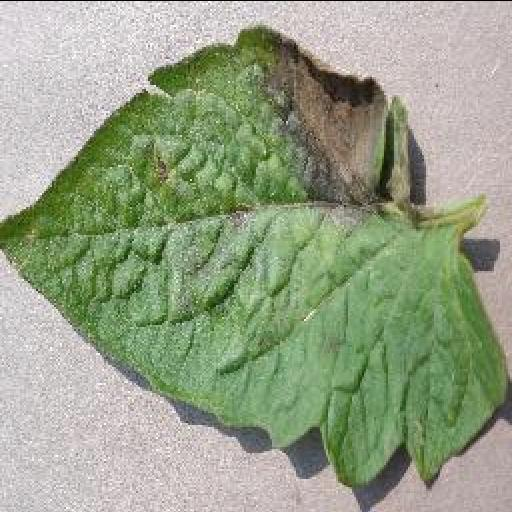disease_tomato: (0, 25, 512, 491)
